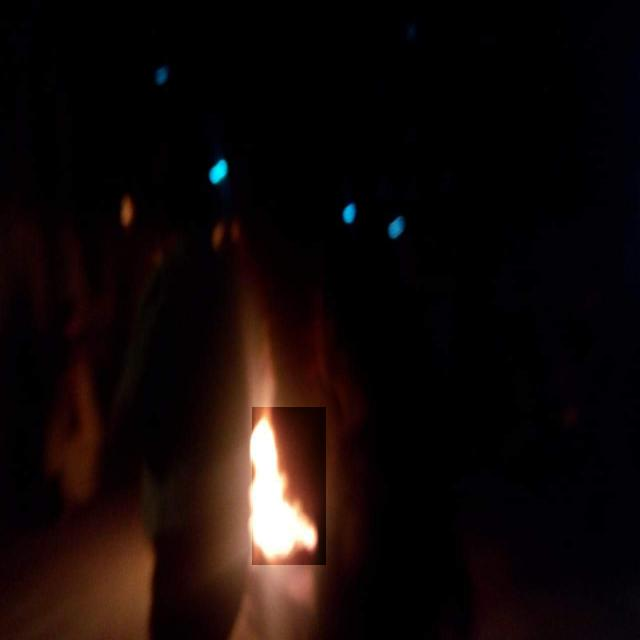Fire: (252, 408, 326, 566)
